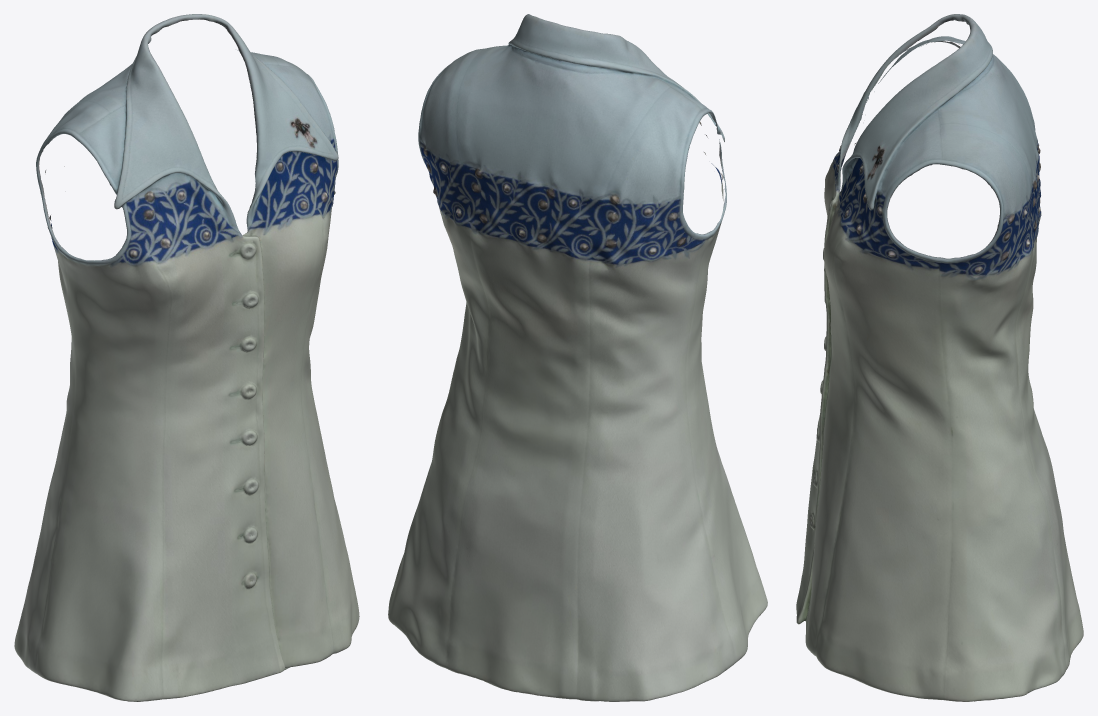
File: 1992_0122_01_01A-100k-2048_std_draco.glb
The picture shows the model from 3 angles, left to right: view 1: azimuth 30°, elevation 25°; view 2: azimuth 150°, elevation 25°; view 3: azimuth 270°, elevation 25°; orthographic projection. The views are drawn at different scales.
Size of the model in its own units: 0.4134 by 0.7671 by 0.3225.
Materials: 1 (1 with a texture image).
